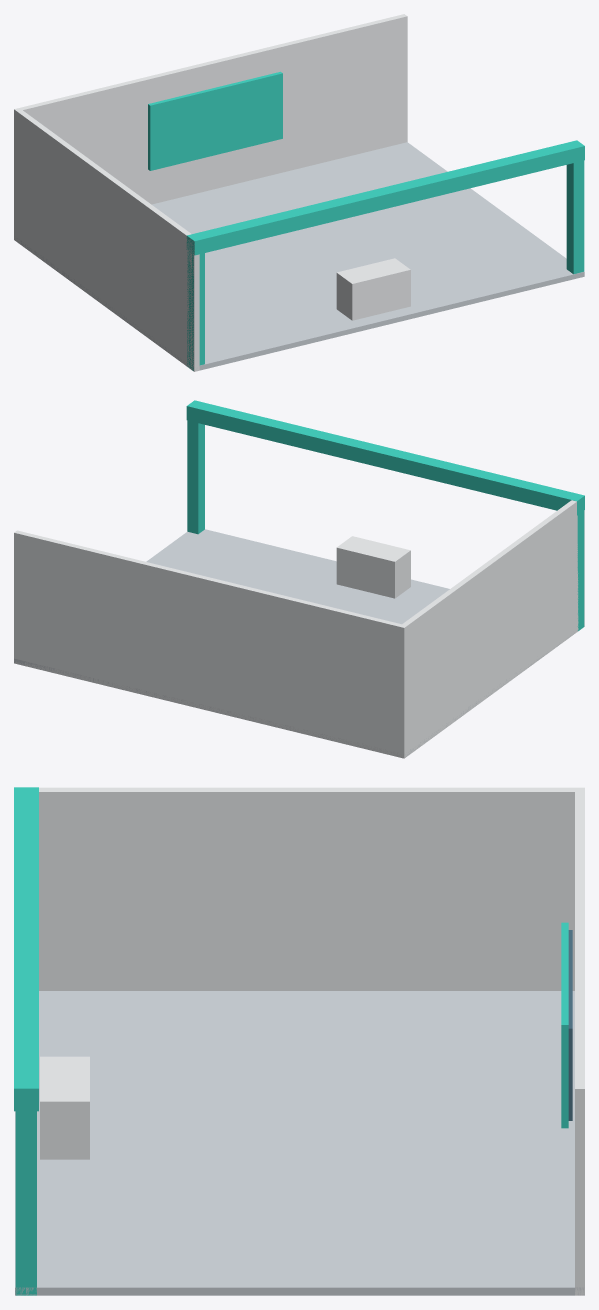
The picture shows the model from 3 angles, top to bottom: view 1: azimuth 30°, elevation 25°; view 2: azimuth 150°, elevation 25°; view 3: azimuth 270°, elevation 25°; orthographic projection. The views are drawn at different scales.
Parts seen in each view (by area): view 1: Exhibition Booth Concept; view 2: Exhibition Booth Concept; view 3: Exhibition Booth Concept.
Part boxes in pixels (x1=…): Exhibition Booth Concept: x1=14, y1=14, x2=584, y2=371; Exhibition Booth Concept: x1=14, y1=400, x2=584, y2=758; Exhibition Booth Concept: x1=14, y1=787, x2=584, y2=1295.
Bounding box in the file's own units: 10 × 3.2 × 8.01.
